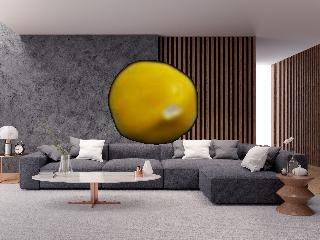lemon: (111, 60, 198, 143)
